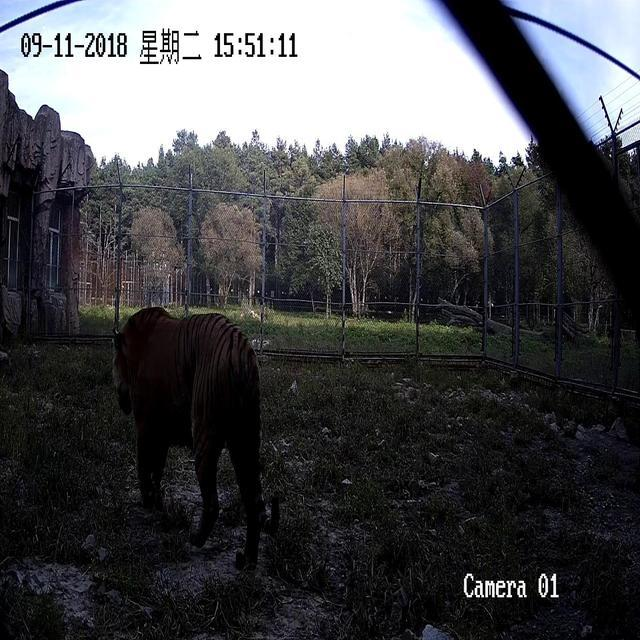tiger: (111, 304, 269, 569)
